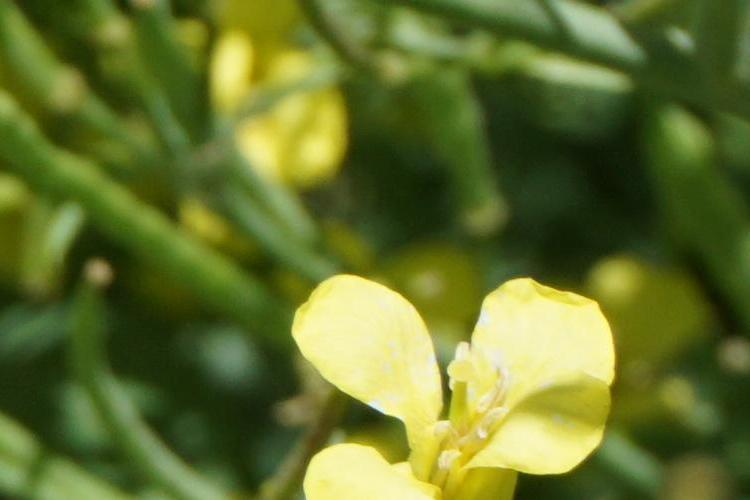yellow: (271, 265, 653, 491)
